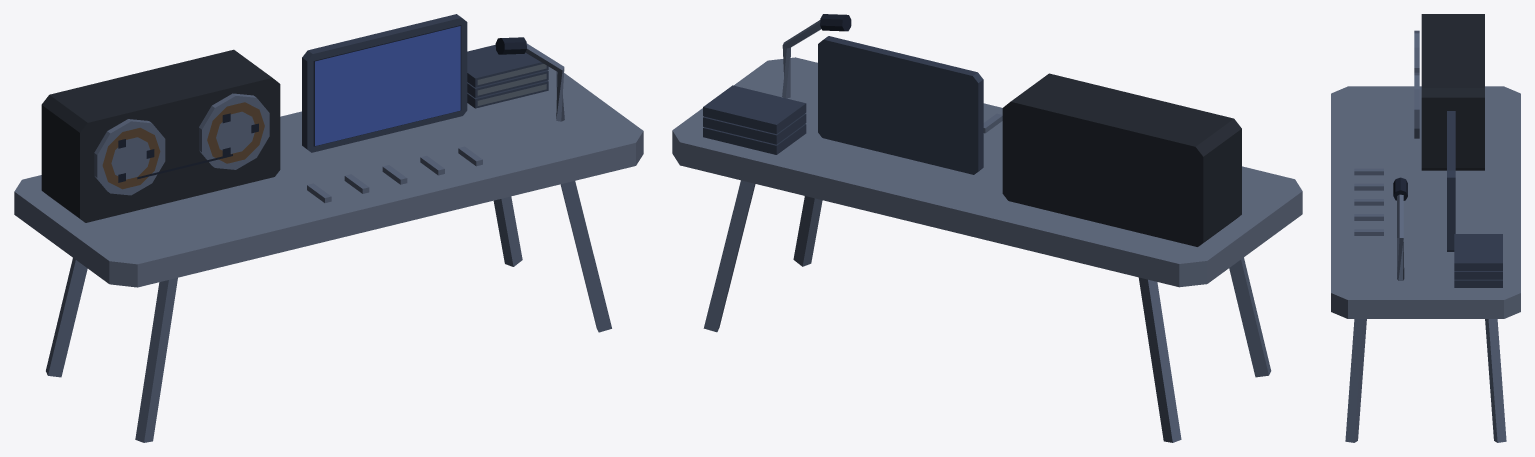
The model's file is res_recording_console.glb.
3 views of the same model, side by side, from view 1: azimuth 30°, elevation 25°; view 2: azimuth 150°, elevation 25°; view 3: azimuth 270°, elevation 25° (orthographic). The views are drawn at different scales.
Parts seen in each view (by area): view 1: recording_worktop, recorder_chassis, gooseneck_mic, print, book_binding, tape_reel, magnetic_tape, page_edges; view 2: recording_worktop, recorder_chassis, book_binding, gooseneck_mic; view 3: recording_worktop, recorder_chassis, gooseneck_mic, book_binding, magnetic_tape.
Part boxes in pixels (box(x1,y1,x2,y2)): recording_worktop: box(14, 67, 643, 287); recorder_chassis: box(41, 49, 280, 222); gooseneck_mic: box(46, 43, 611, 442); print: box(315, 26, 460, 145); book_binding: box(302, 14, 548, 152); tape_reel: box(102, 102, 264, 189); magnetic_tape: box(118, 25, 526, 182); page_edges: box(477, 64, 546, 105); recording_worktop: box(672, 57, 1302, 287); recorder_chassis: box(1002, 73, 1241, 246); book_binding: box(703, 36, 983, 174); gooseneck_mic: box(703, 20, 1271, 442); recording_worktop: box(1331, 86, 1520, 318); recorder_chassis: box(1421, 14, 1484, 170); gooseneck_mic: box(1345, 30, 1506, 442); book_binding: box(1447, 111, 1502, 287); magnetic_tape: box(1393, 177, 1407, 200).
Size of the model in its own units: 2.4 by 1.25 by 0.9.
